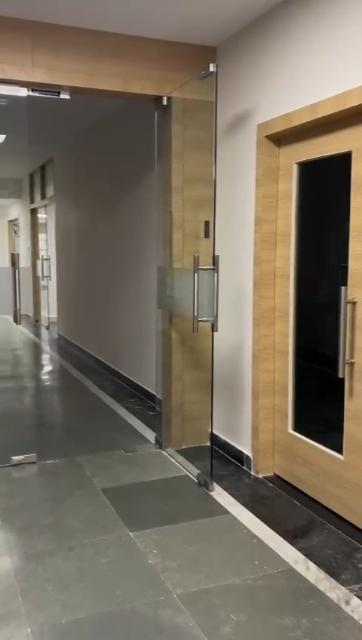door: (260, 112, 362, 494), (23, 171, 61, 345)
floor: (0, 317, 362, 640)
wall: (61, 116, 149, 357), (220, 20, 362, 104), (218, 109, 246, 439)
